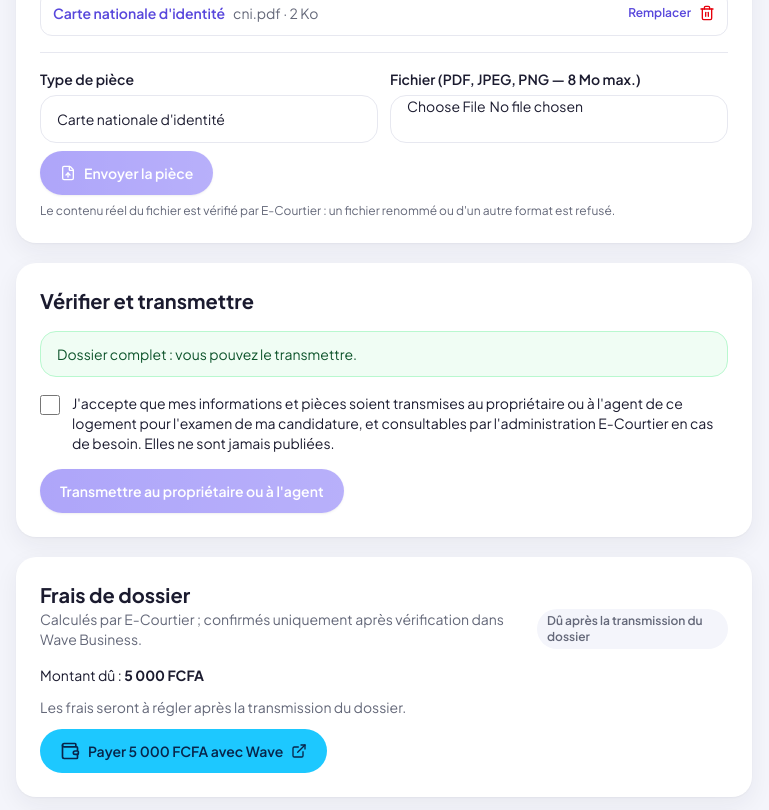
Test: Dossier locatif — candidat › exige le consentement puis transmet explicitement le dossier
(page scrolled)
Expected: the button "Transmettre au propriétaire ou à l'agent" is disabled, [40, 469, 344, 513]
Click the checkbox labelled "J'accepte que mes informations" at (50, 405), box [40, 395, 60, 415]
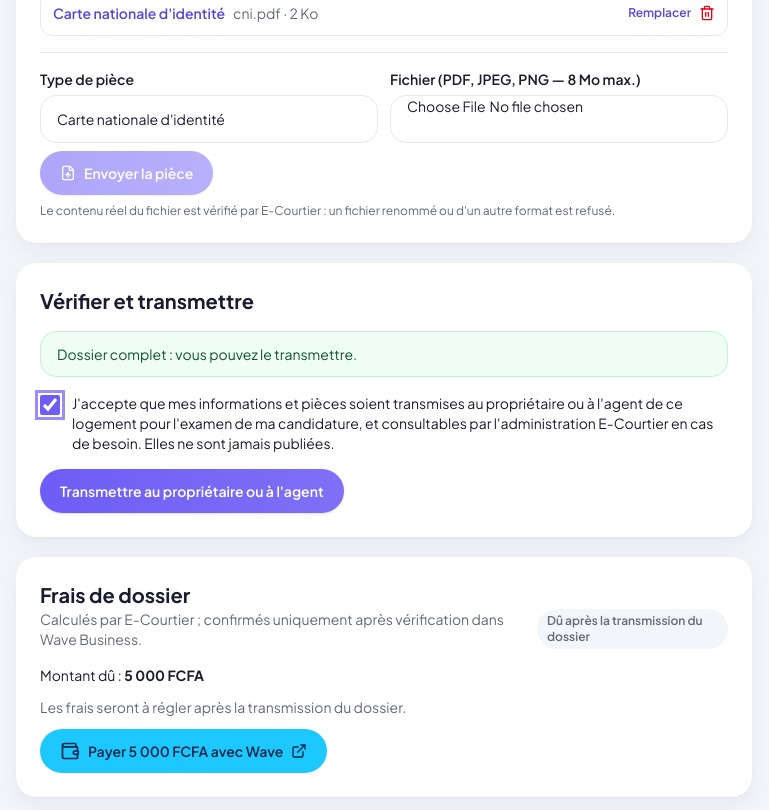
Click the button "Transmettre au propriétaire ou à l'agent" at (192, 491), box [40, 469, 344, 513]
(page scrolled)
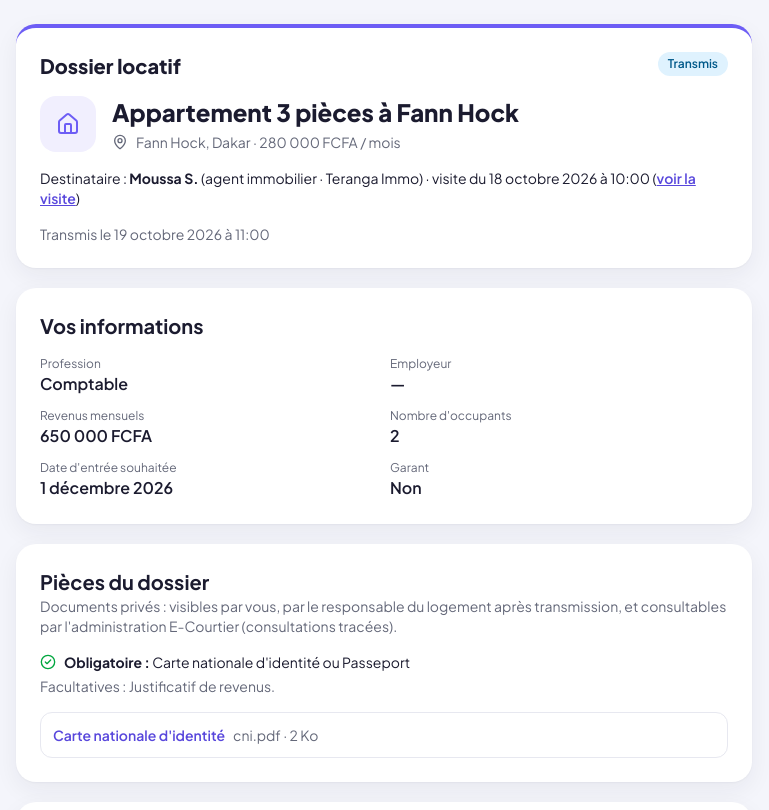
Result: the text "Transmis le 19 octobre 2026 à 11:00" is shown at [40, 225, 270, 243]
Result: the heading "transmettre" is gone
